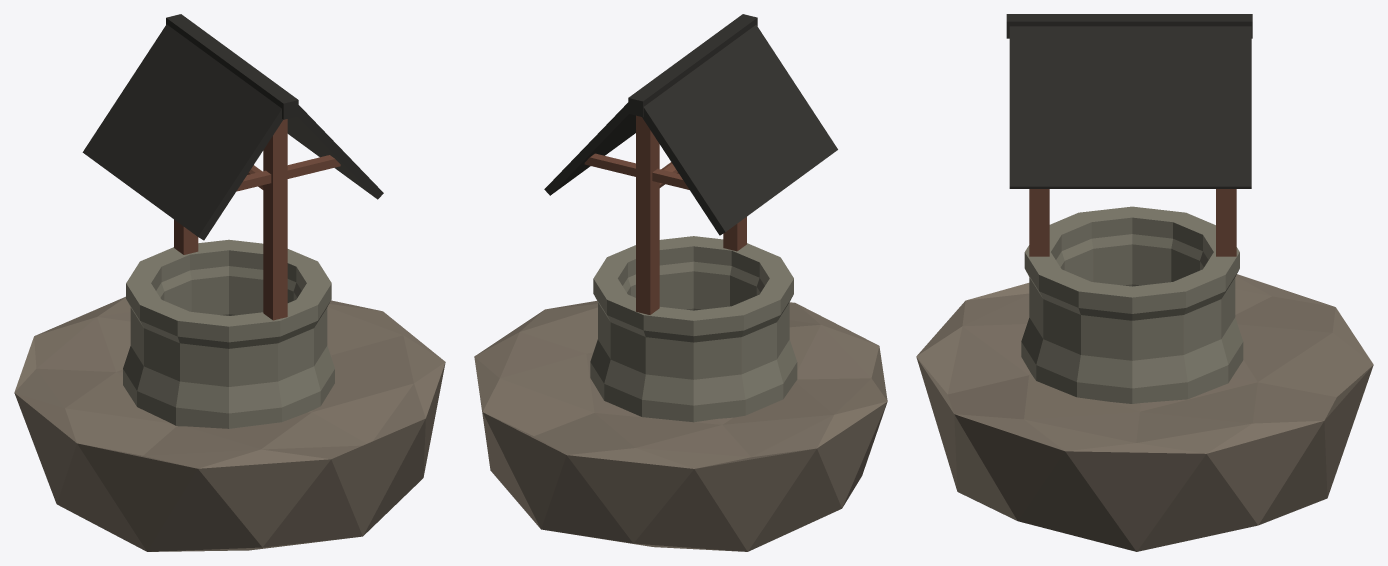
File: Well.fbx
3 renders of one model, left to right at view 1: azimuth 30°, elevation 25°; view 2: azimuth 150°, elevation 25°; view 3: azimuth 270°, elevation 25°, orthographic. The views are drawn at different scales.
Visible parts, largest first — view 1: Cylinder, FloatPlatformRound.001; view 2: FloatPlatformRound.001, Cylinder; view 3: Cylinder, FloatPlatformRound.001.
Boxes of the visible parts, x1,y1,x2,y2 form: Cylinder: (82,14,383,428); FloatPlatformRound.001: (14,296,445,551); FloatPlatformRound.001: (474,301,887,551); Cylinder: (544,14,837,422); Cylinder: (1006,14,1252,403); FloatPlatformRound.001: (916,274,1373,551).
Bounding box in the file's own units: 2787 × 3301 × 2891.
